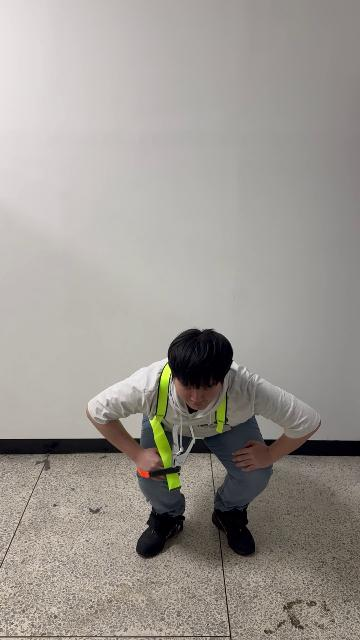helmet_not_worn: (168, 328, 236, 385)
shoe_worn: (137, 510, 185, 556), (212, 506, 255, 555)
vest_worn: (143, 363, 235, 492)
